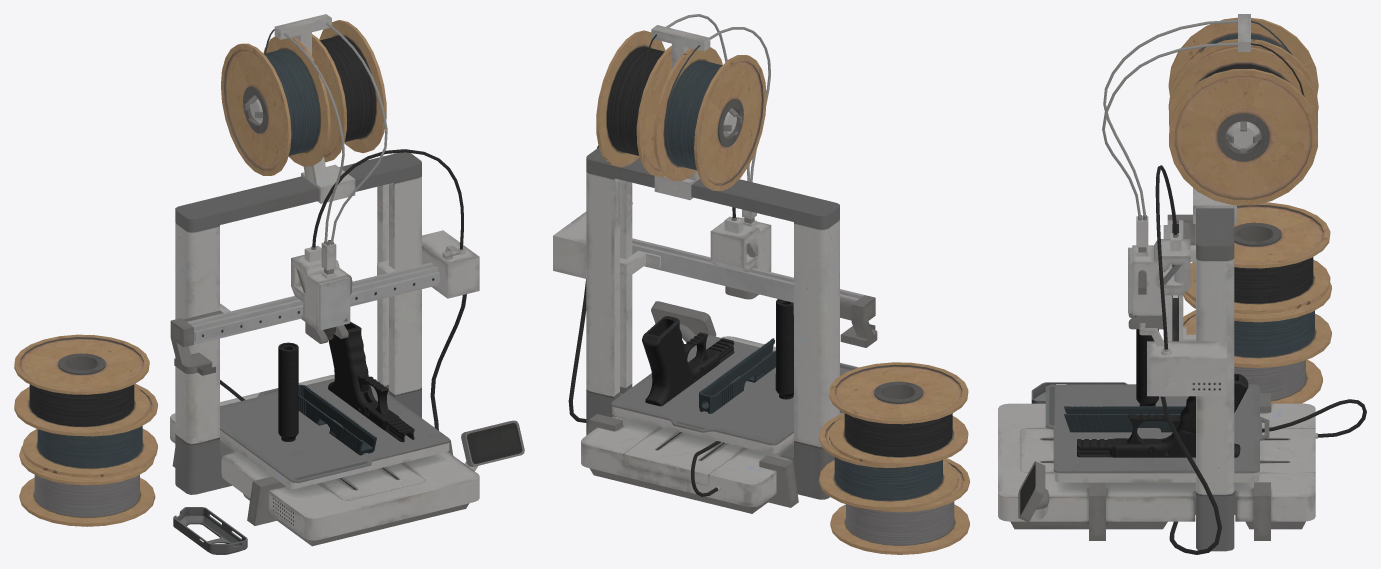
File: 3d_printer.glb
3 views of the same model, side by side, from view 1: azimuth 30°, elevation 25°; view 2: azimuth 150°, elevation 25°; view 3: azimuth 270°, elevation 25° (orthographic). The views are drawn at different scales.
Parts seen in each view (by area): view 1: 3D_Printer_3D_Printer_0, Device_Shell_3DPrint_Shells_0; view 2: 3D_Printer_3D_Printer_0, Device_Shell_3DPrint_Shells_0; view 3: 3D_Printer_3D_Printer_0, Device_Shell_3DPrint_Shells_0.
Boxes of the visible parts, <box> form: 3D_Printer_3D_Printer_0: <box>14,14,524,546</box>; Device_Shell_3DPrint_Shells_0: <box>173,321,414,554</box>; 3D_Printer_3D_Printer_0: <box>553,14,969,554</box>; Device_Shell_3DPrint_Shells_0: <box>642,299,793,413</box>; 3D_Printer_3D_Printer_0: <box>998,14,1366,554</box>; Device_Shell_3DPrint_Shells_0: <box>1031,329,1248,457</box>.
Size of the model in its own units: 0.704 by 0.7013 by 0.4993.
2 materials, 2 textured.
